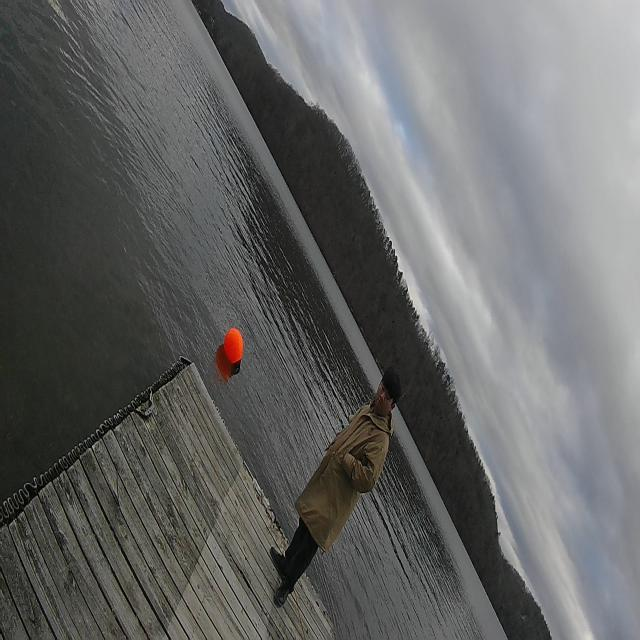Buoy: (222, 326, 246, 367)
